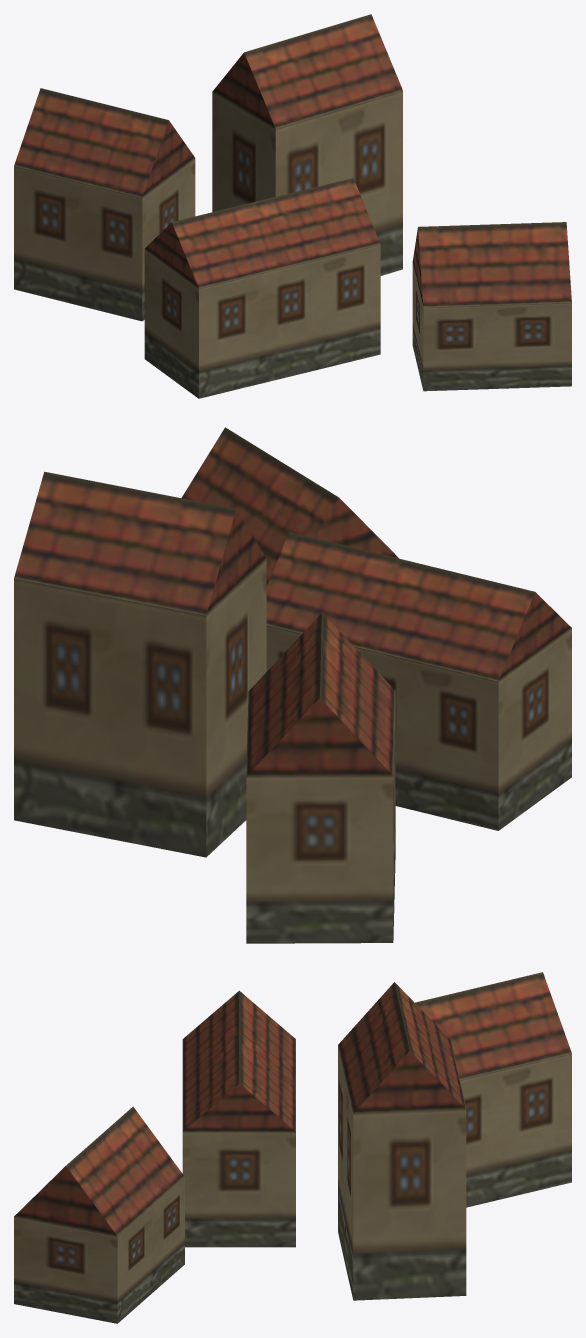
Rendered from house_01.FBX.
3 views of the same model, one above another, from view 1: azimuth 30°, elevation 25°; view 2: azimuth 150°, elevation 25°; view 3: azimuth 270°, elevation 25° (orthographic). The views are drawn at different scales.
Parts seen in each view (by area): view 1: house_01; view 2: house_01; view 3: house_01.
Part boxes in pixels (x1,y1,x2,y2): house_01: [14, 14, 571, 398]; house_01: [14, 427, 571, 943]; house_01: [14, 972, 571, 1323].
Size of the model in its own units: 569 by 735 by 360.
